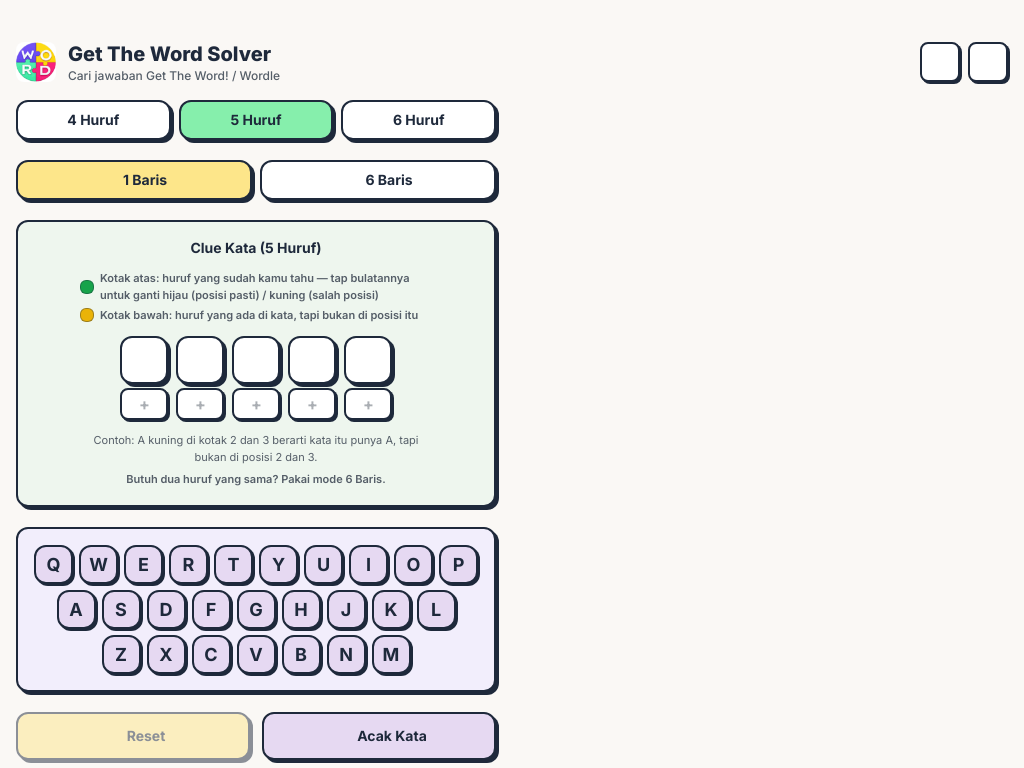
Test: coach mark navigation › jumps straight to a step from the progress bar
Click the button named "Panduan": click(940, 62) [920,42,960,82]
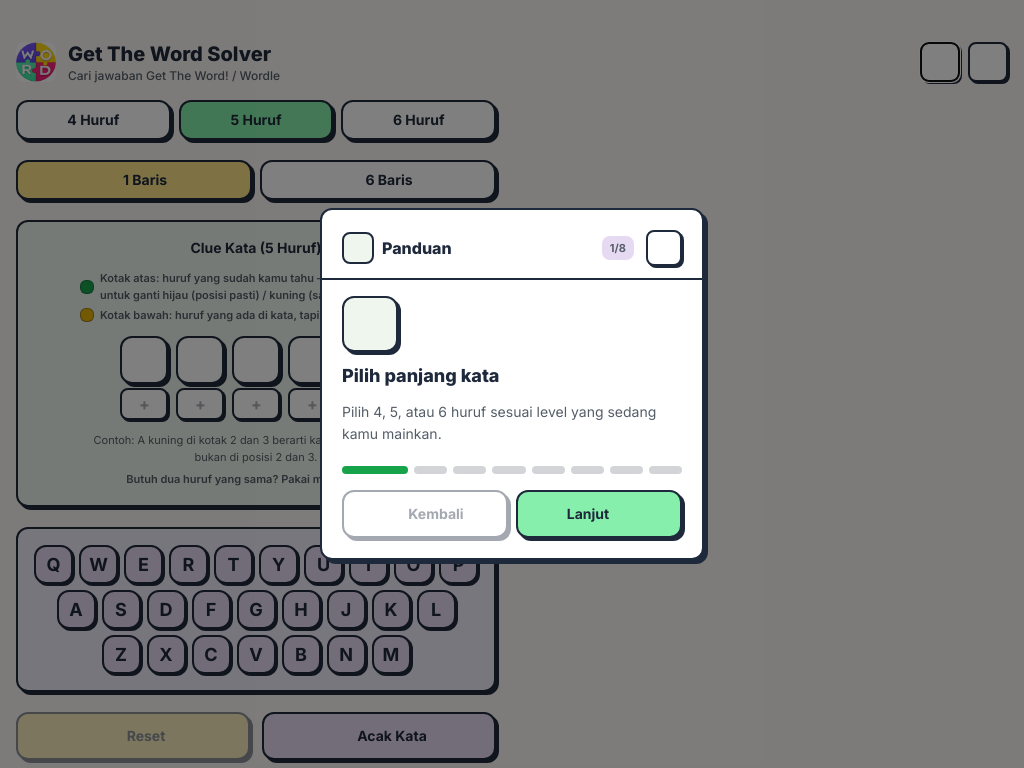
Click the tab named "8. Atur sesuai selera": click(665, 470) [649,466,682,474]
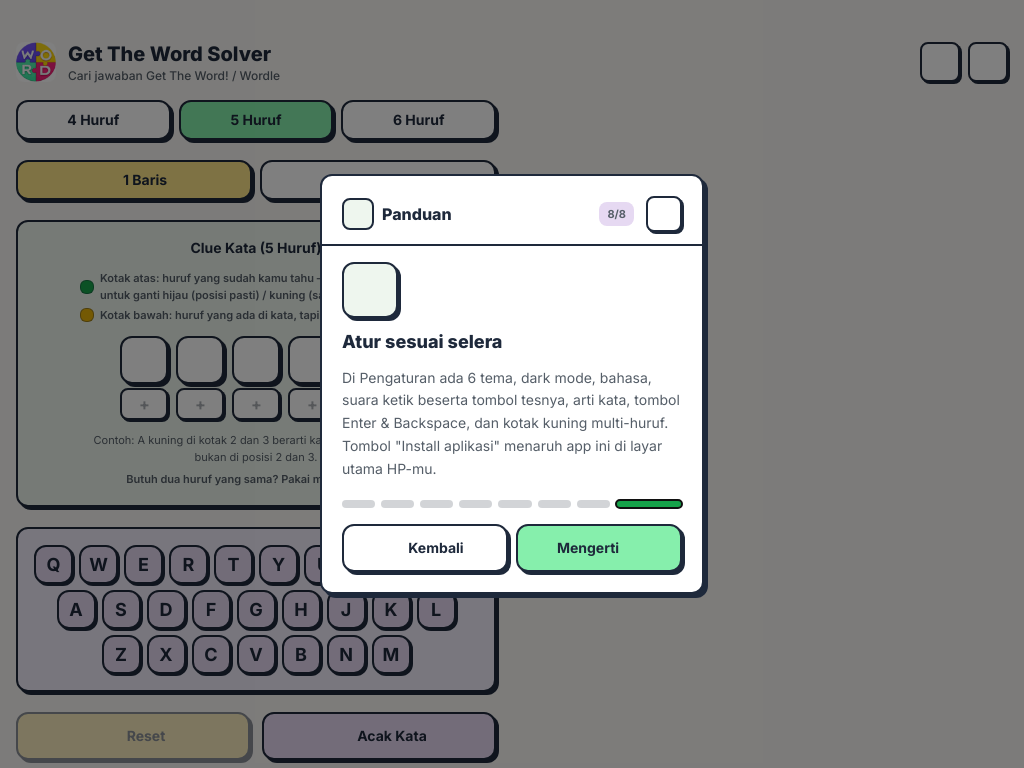
Expected: the heading "Atur sesuai selera" is shown, [342,331,502,352]
